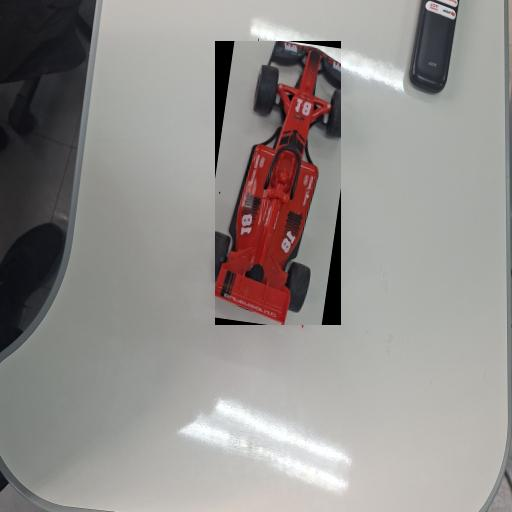carro: (215, 41, 339, 325)
